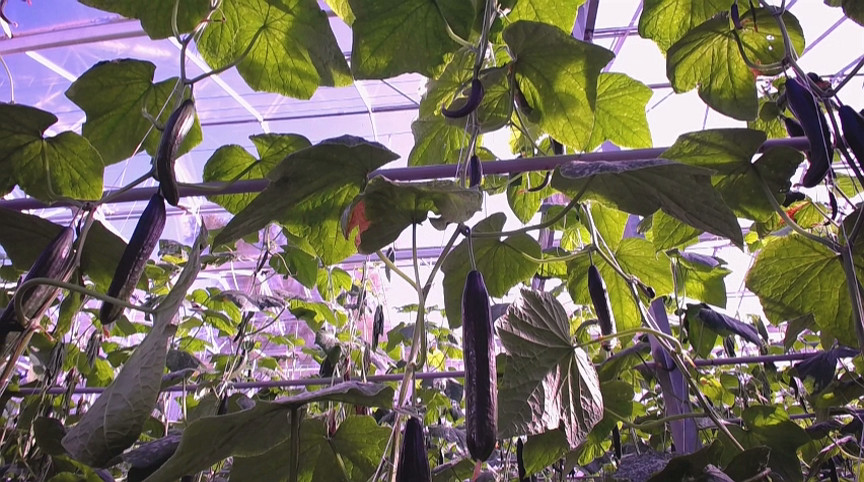cucumber: (1, 224, 78, 360), (100, 194, 168, 322), (461, 270, 497, 463), (782, 79, 835, 190), (156, 98, 198, 208), (586, 266, 618, 355), (396, 417, 435, 482), (837, 103, 864, 169)
